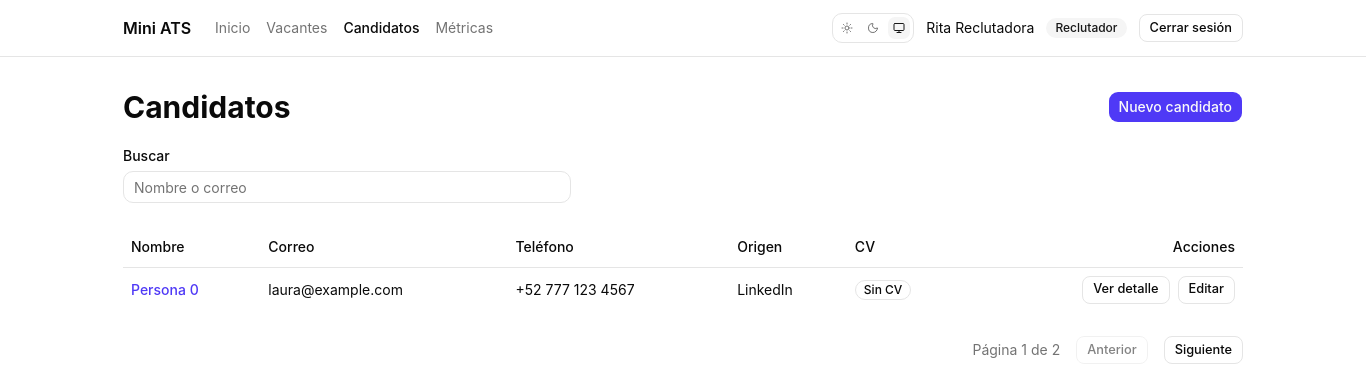
it: CandidatesPage › shows one-based pages and restarts at page 0 on a new search
Expected: the text "Página 1 de 2" is shown, [972,340,1060,360]
Click the button "Siguiente" at (1203, 350), box [1164,336,1243,364]
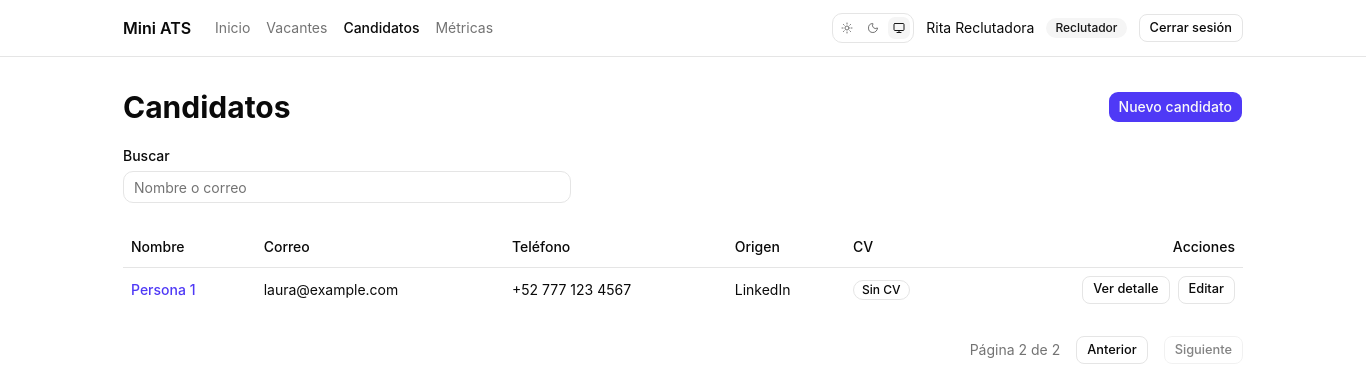
Now the link "Persona 1" is shown, box [131,280,196,298]
Now the text "Página 2 de 2" is shown, box [970,340,1060,360]
Type "per" into the search field labelled "Buscar" at (347, 187), box [123,171,571,203]
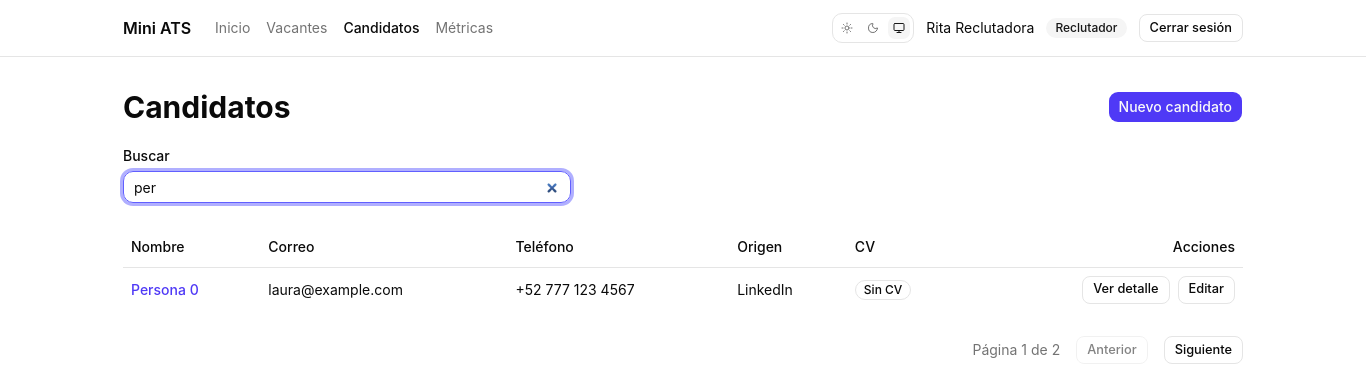
Now the link "Persona 0" is shown, box [131,280,199,298]
